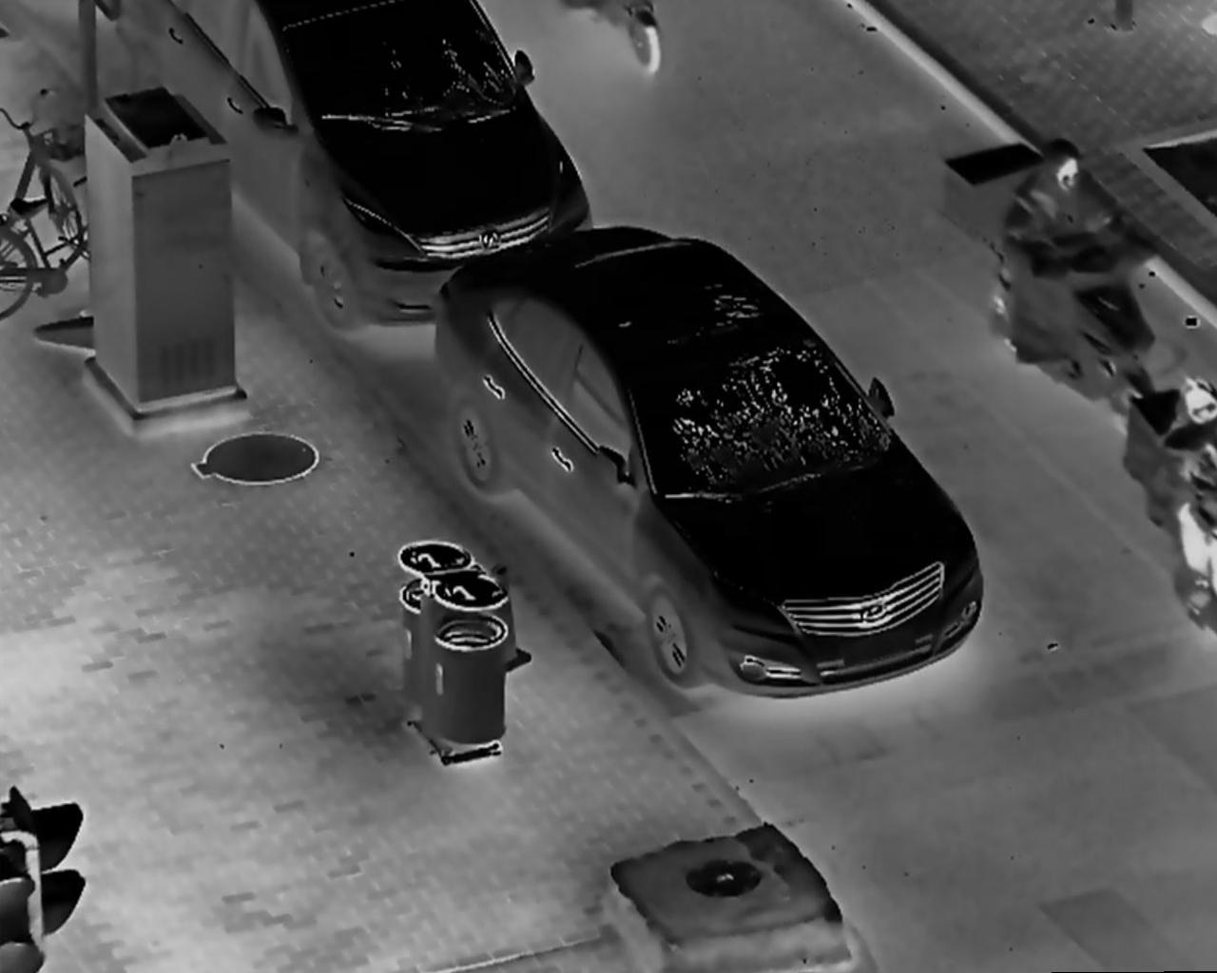person: (1005, 137, 1130, 368), (1165, 374, 1217, 629)
